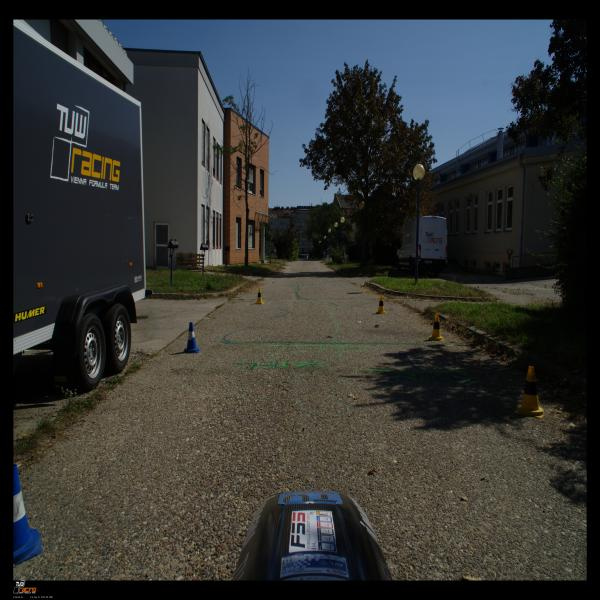blue_cone: (13, 464, 42, 565), (182, 322, 201, 354)
yellow_cone: (516, 366, 544, 418), (429, 314, 444, 341), (375, 295, 387, 314), (255, 288, 264, 304)
